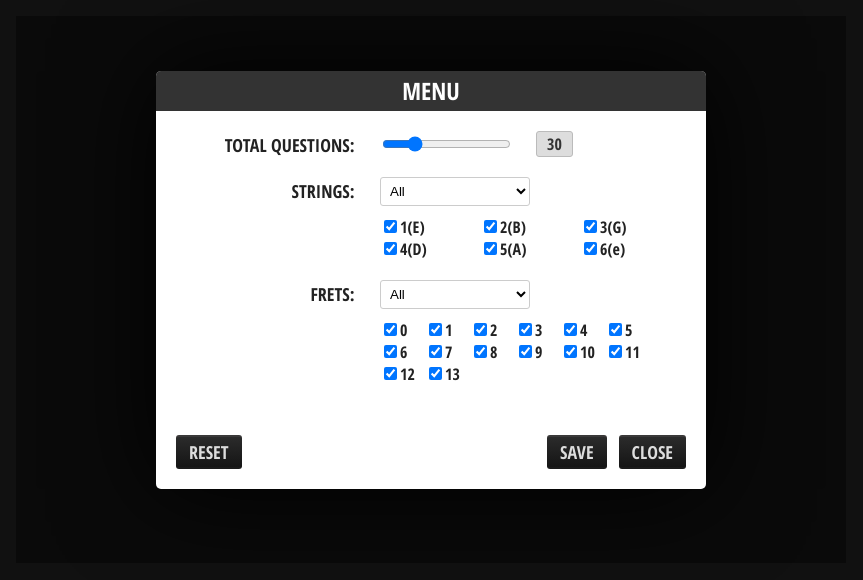
MenuModal › saves updated options properly
The width and height of the screenshot is (863, 580).
Select "1-3" in the dropdown labelled "Strings:": {"x": 455, "y": 192} [380,178,530,206]
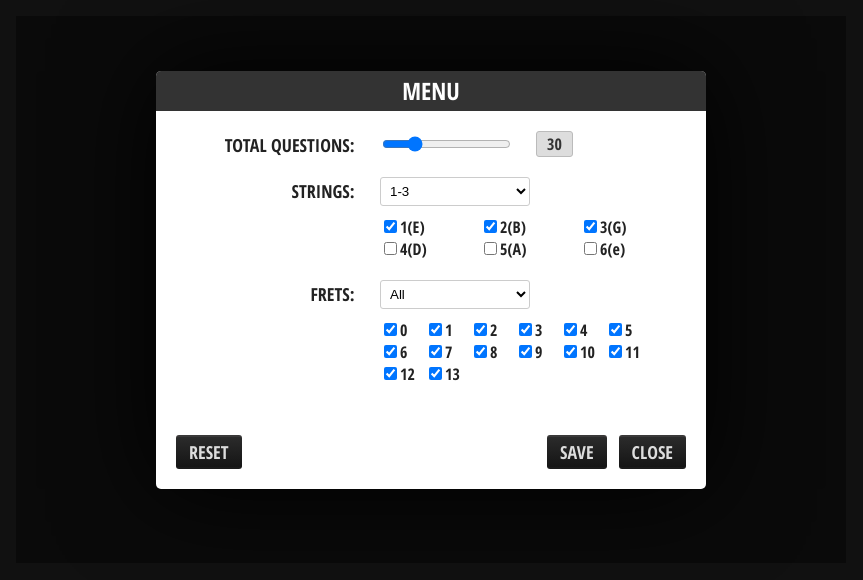
Click the button "Save": {"x": 577, "y": 452} [547,436,607,470]
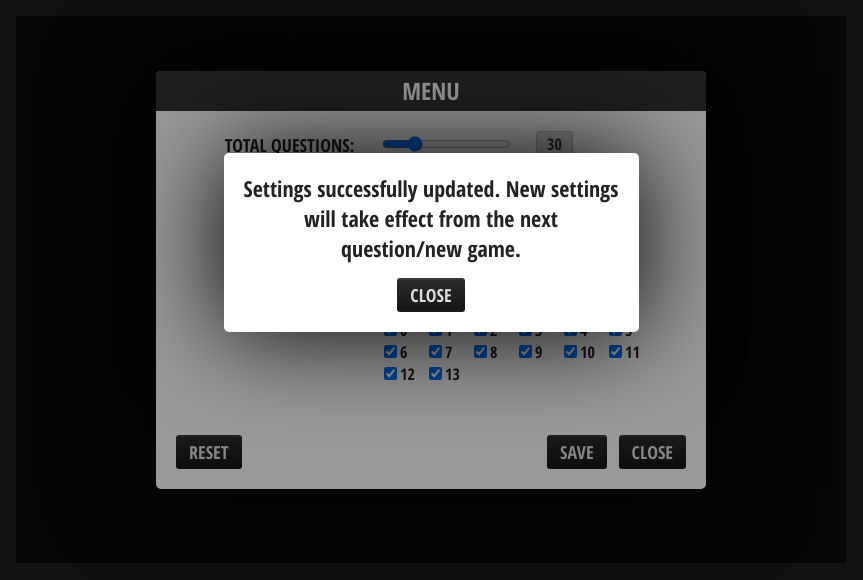
Now the text "Settings successfully updated. New settings will take effect from the next question/new game" is shown, box [244,173,618,263]
